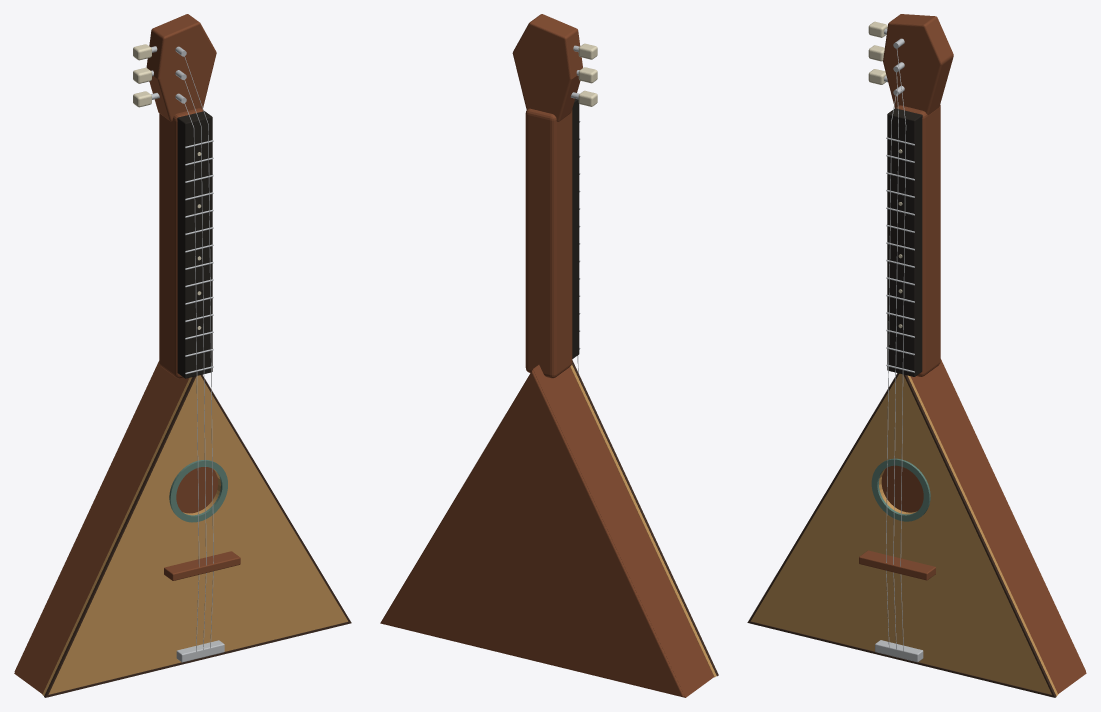
File: full.glb
3 views of the same model, side by side, from view 1: azimuth 30°, elevation 25°; view 2: azimuth 150°, elevation 25°; view 3: azimuth 330°, elevation 25° (orthographic).
Parts seen in each view (by area): view 1: Triangular soundboard with real soundhole, Hollow triangular body sides, Dark fingerboard, Asymmetric paddle headstock, Long narrow neck, Front perimeter binding, Closed triangular back, Plain soundhole annular surround, Raised bridge, Continuous string 2, Continuous string 1, Continuous string 0 (+1 smaller); view 2: Closed triangular back, Hollow triangular body sides, Long narrow neck, Asymmetric paddle headstock, Dark fingerboard, Triangular soundboard with real soundhole, Front perimeter binding; view 3: Triangular soundboard with real soundhole, Hollow triangular body sides, Dark fingerboard, Asymmetric paddle headstock, Long narrow neck, Front perimeter binding, Closed triangular back, Plain soundhole annular surround, Raised bridge, Continuous string 2, Continuous string 1, Continuous string 0 (+1 smaller).
Boxes of the visible parts, x1,y1,x2,y2 form: Triangular soundboard with real soundhole: (42, 375, 348, 695); Hollow triangular body sides: (14, 362, 189, 693); Dark fingerboard: (177, 111, 212, 378); Asymmetric paddle headstock: (146, 14, 216, 121); Long narrow neck: (159, 108, 203, 378); Front perimeter binding: (44, 374, 351, 697); Closed triangular back: (14, 361, 218, 671); Plain soundhole annular surround: (169, 460, 227, 522); Raised bridge: (164, 551, 240, 580); Continuous string 2: (184, 56, 213, 648); Continuous string 1: (184, 79, 206, 649); Continuous string 0: (184, 102, 199, 651); Closed triangular back: (380, 370, 684, 697); Hollow triangular body sides: (380, 365, 713, 697); Long narrow neck: (525, 108, 572, 378); Asymmetric paddle headstock: (512, 14, 582, 121); Dark fingerboard: (572, 98, 579, 358); Triangular soundboard with real soundhole: (570, 364, 716, 677); Front perimeter binding: (572, 360, 718, 676); Triangular soundboard with real soundhole: (751, 373, 1058, 695); Hollow triangular body sides: (910, 360, 1086, 693); Dark fingerboard: (887, 108, 922, 376); Asymmetric paddle headstock: (883, 14, 953, 115); Long narrow neck: (896, 105, 940, 376); Front perimeter binding: (747, 373, 1056, 697); Closed triangular back: (881, 359, 1085, 671); Plain soundhole annular surround: (871, 458, 930, 521); Raised bridge: (859, 550, 935, 580); Continuous string 2: (896, 49, 906, 651); Continuous string 1: (893, 72, 898, 649); Continuous string 0: (886, 94, 896, 648).
Size of the model in its own units: 0.341 by 0.667 by 0.08.
